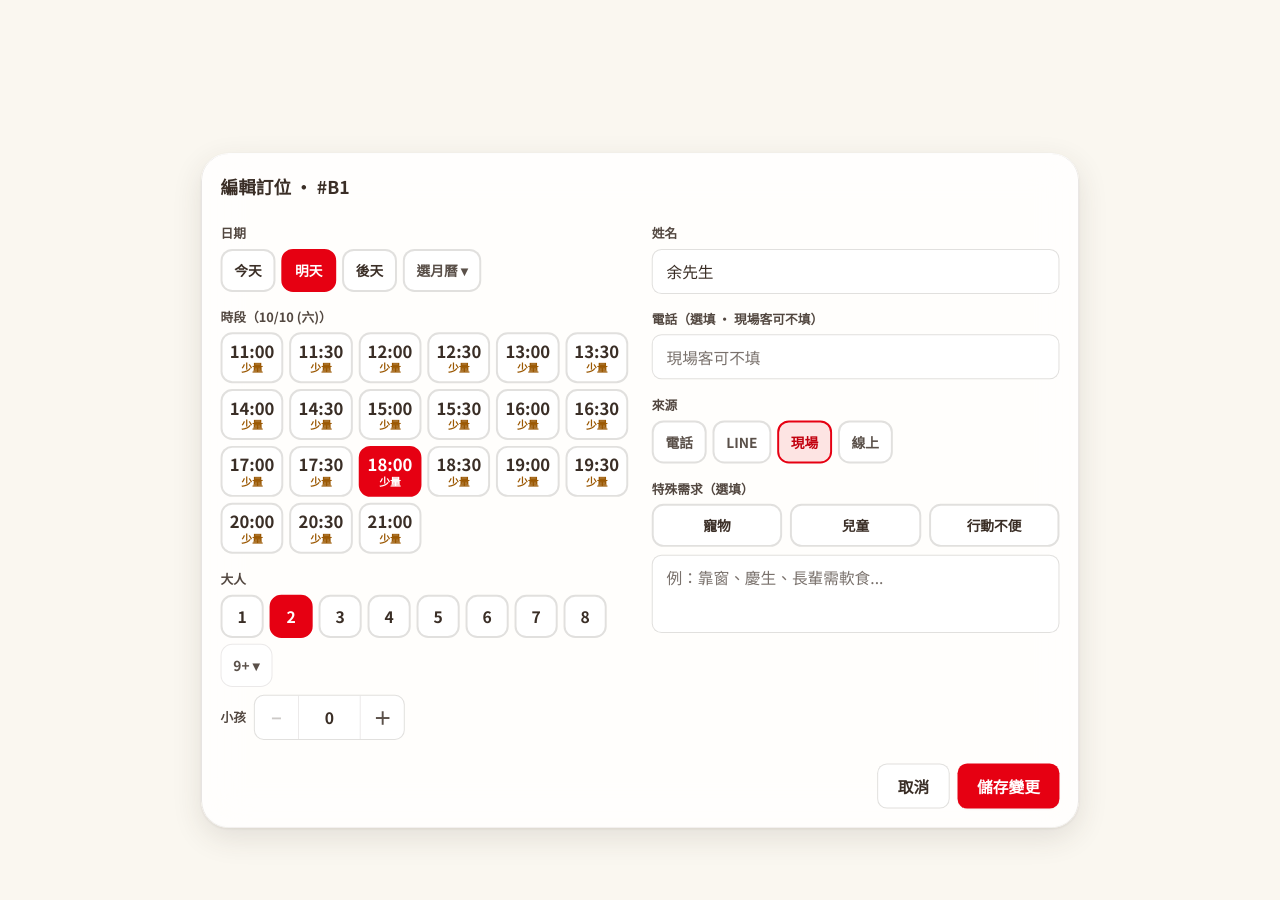
Test: EditBookingModal：換日期保留仍可訂的時段 › 新日期該時段已滿 → 清空、要求重選
Click the button "後天".
click(370, 270)  # box left=342, top=248, right=397, bottom=291
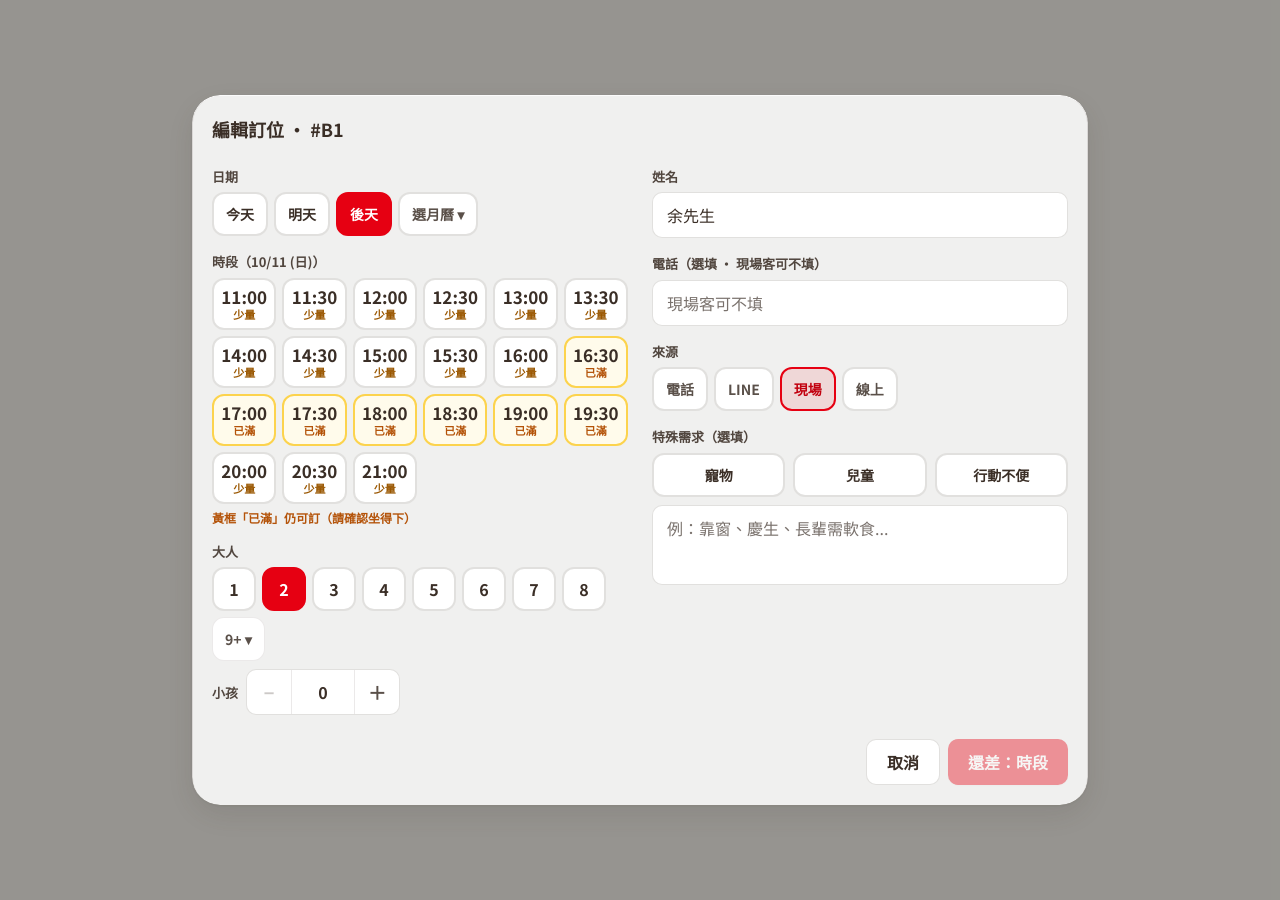
expect the button "還差：時段" is shown: met, box left=948, top=739, right=1068, bottom=785
